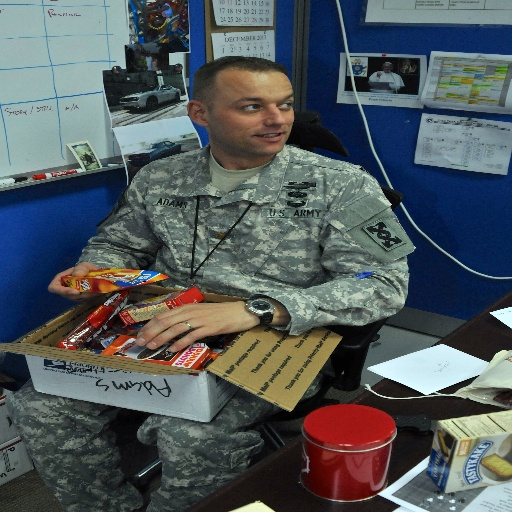hand: (111, 299, 264, 353), (45, 259, 110, 306)
